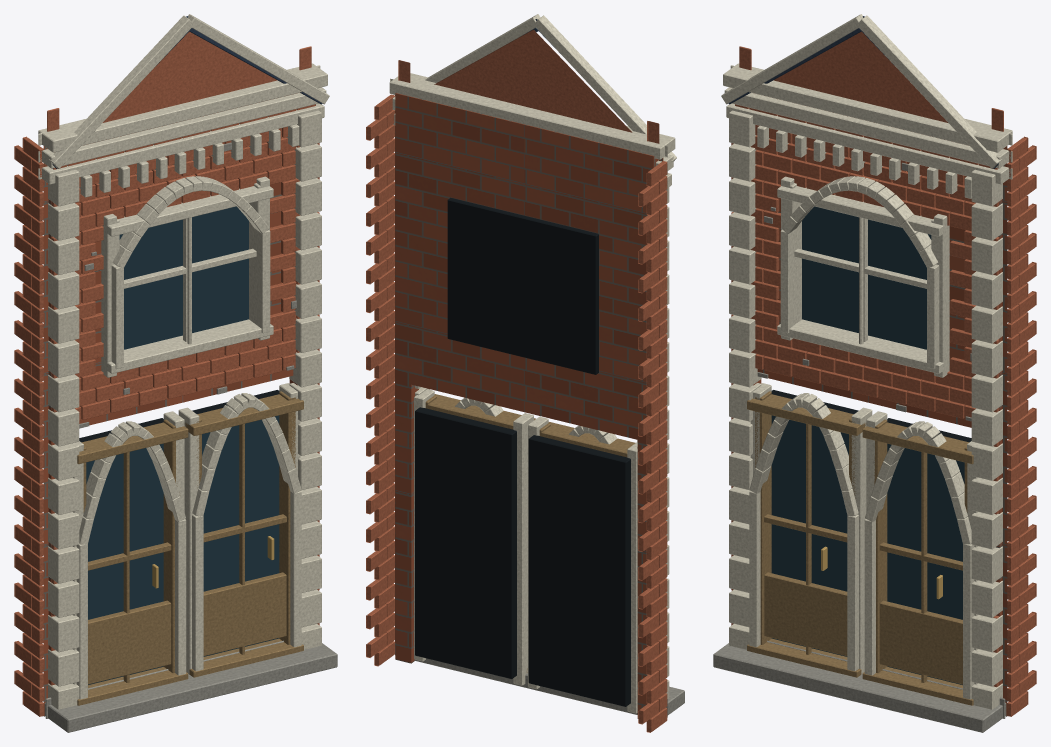
File: CLSTGA17_lod0.glb
The picture shows the model from 3 angles, left to right: view 1: azimuth 30°, elevation 25°; view 2: azimuth 150°, elevation 25°; view 3: azimuth 330°, elevation 25°; orthographic projection.
Parts seen in each view (by area): view 1: CLSTGA17_FRONT_LOD0; view 2: CLSTGA17_FRONT_LOD0; view 3: CLSTGA17_FRONT_LOD0.
Boxes of the visible parts, <box> form: CLSTGA17_FRONT_LOD0: <box>14,14,337,732</box>; CLSTGA17_FRONT_LOD0: <box>366,14,684,732</box>; CLSTGA17_FRONT_LOD0: <box>713,14,1036,732</box>.
Bounding box in the file's own units: 3.44 × 7.86 × 1.02.
12 materials, 9 textured.
